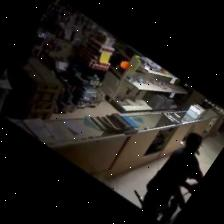person: (141, 133, 202, 223)
